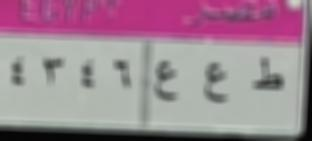3: (37, 52, 65, 91)
4: (5, 55, 30, 90), (76, 55, 97, 95)
6: (111, 58, 137, 95)
Taa: (245, 52, 286, 101)
ain: (148, 57, 181, 109), (198, 58, 231, 108)
